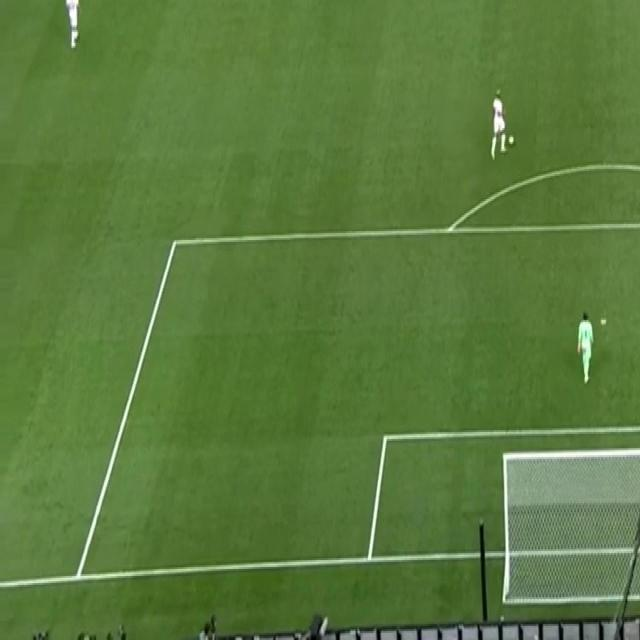ball: (508, 134, 515, 144)
player-white: (576, 308, 596, 386), (490, 86, 508, 160), (64, 0, 81, 50)
